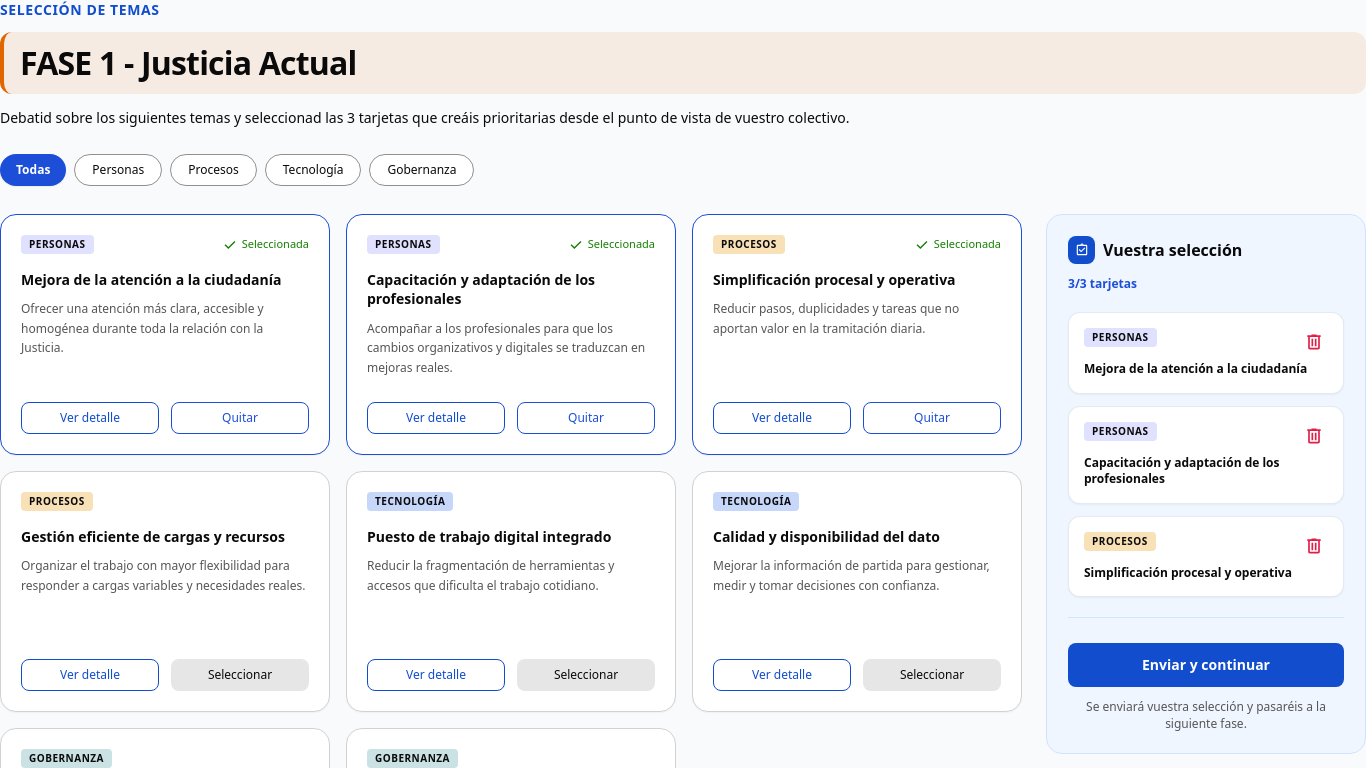
Test: componentes principales › confirma el envío de una fase y la deja en modo lectura
The image size is (1366, 768).
Click the button "Enviar y continuar".
click(1206, 665)  # box [1068,643,1344,687]
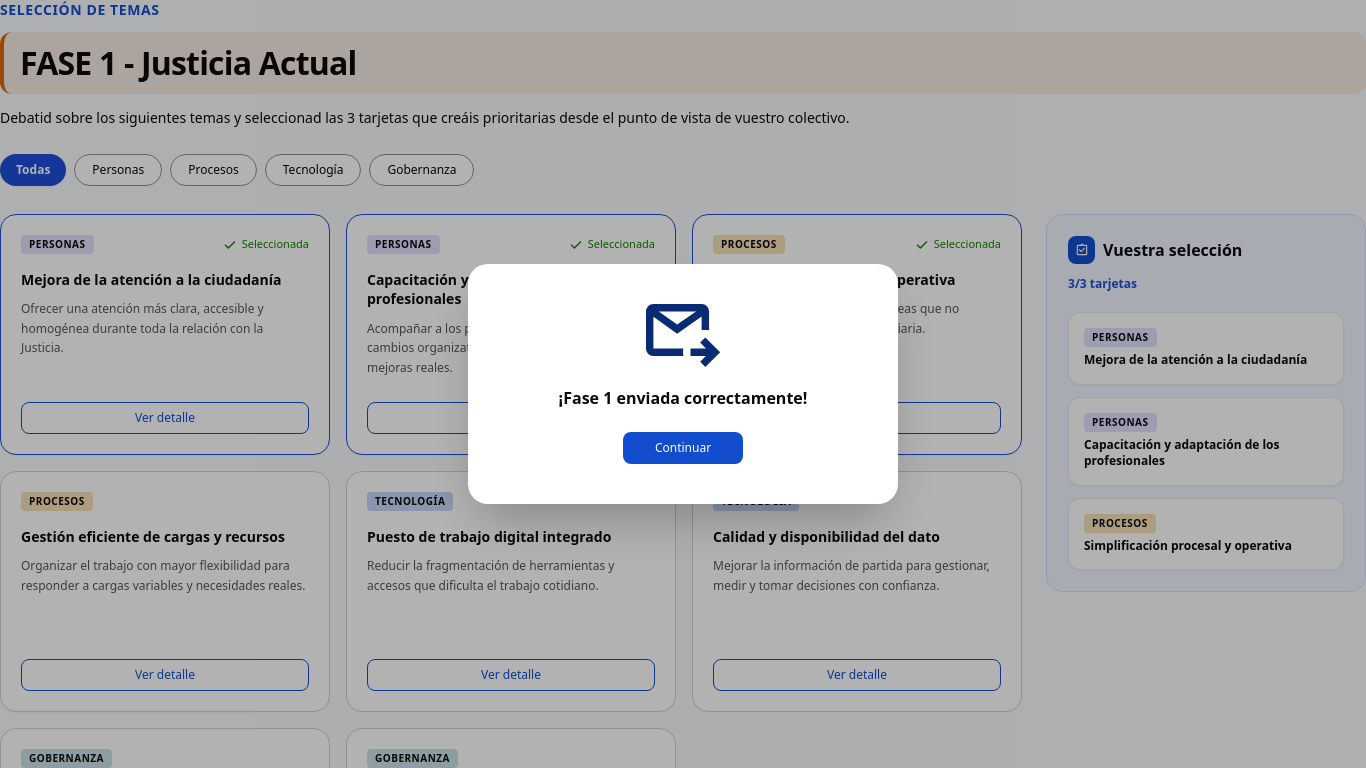
Expected: the button "Enviar y continuar" is gone
Expected: the button "Quitar" is gone
Expected: the button "Seleccionar" is gone
